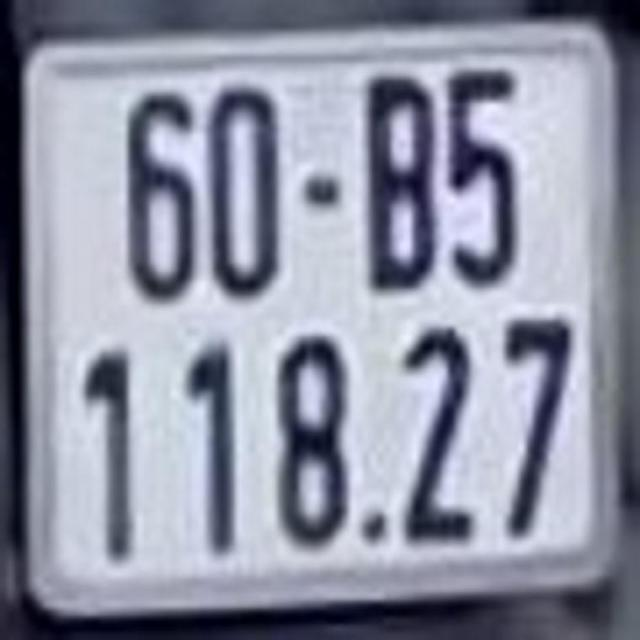0: (212, 88, 280, 297)
1: (86, 348, 148, 562), (192, 348, 244, 552)
2: (402, 330, 477, 536)
5: (451, 67, 517, 287)
6: (123, 94, 200, 300)
7: (500, 316, 580, 542)
8: (274, 331, 353, 544)
B: (369, 78, 433, 292)
